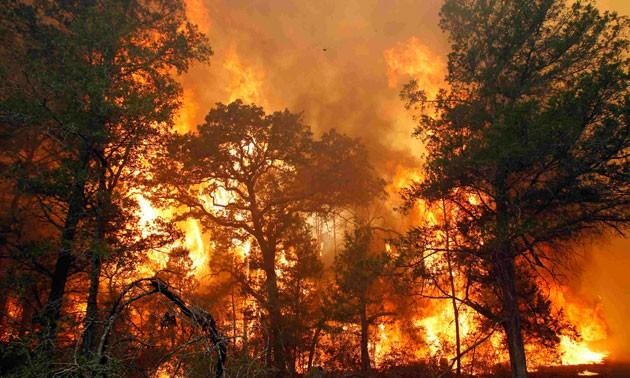fire: (362, 43, 528, 378), (106, 145, 318, 378), (2, 92, 125, 365), (546, 262, 617, 374)
